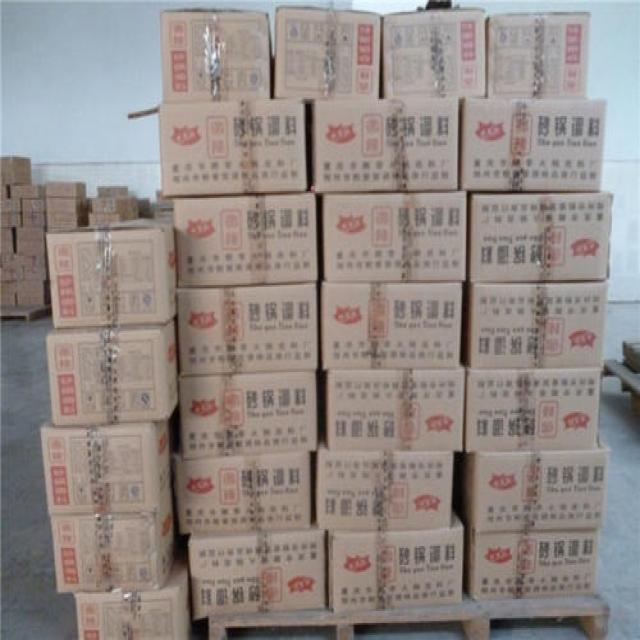box: (45, 316, 177, 427), (463, 432, 609, 532), (47, 218, 177, 328), (163, 99, 306, 195), (174, 191, 317, 287), (461, 97, 603, 193), (314, 97, 458, 191), (49, 488, 174, 596), (187, 521, 325, 618), (323, 191, 467, 283), (329, 514, 465, 611), (175, 283, 319, 374), (40, 415, 172, 514), (468, 193, 612, 283), (316, 440, 453, 532), (323, 280, 463, 369), (177, 370, 316, 459), (463, 365, 602, 451), (468, 282, 608, 367), (326, 367, 465, 451), (170, 451, 310, 532), (161, 7, 273, 102), (275, 5, 384, 99), (465, 529, 598, 602), (383, 7, 488, 97), (76, 563, 192, 640), (486, 14, 593, 97), (88, 210, 142, 227), (0, 157, 31, 184), (18, 278, 49, 305), (87, 198, 137, 213), (44, 181, 86, 198), (49, 212, 87, 230), (20, 253, 47, 278), (45, 196, 87, 212), (0, 278, 19, 309), (10, 181, 44, 198), (0, 253, 20, 278), (18, 224, 45, 241), (0, 225, 15, 254), (17, 239, 46, 254), (99, 186, 129, 198), (23, 198, 47, 213), (0, 198, 23, 213), (0, 213, 22, 225), (0, 183, 12, 200)
